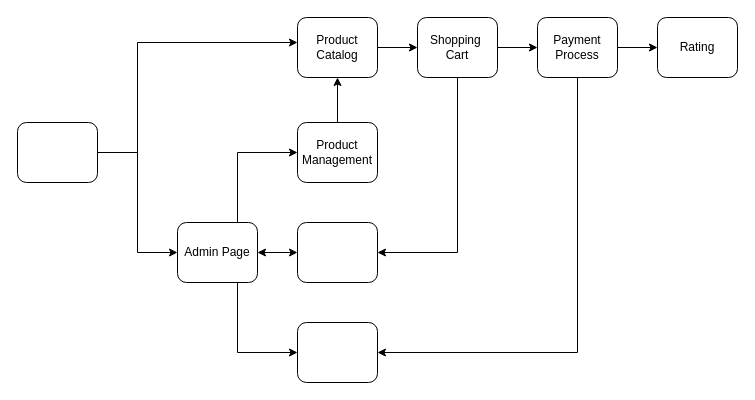
Image size: 755x400. Some labels were removed from this diagram. Each missing label, with the centre of its shape:
"Access Control" belongs at pixel 57 152.
"Cart Management" belongs at pixel 337 252.
"Inventory Management" belongs at pixel 337 352.
